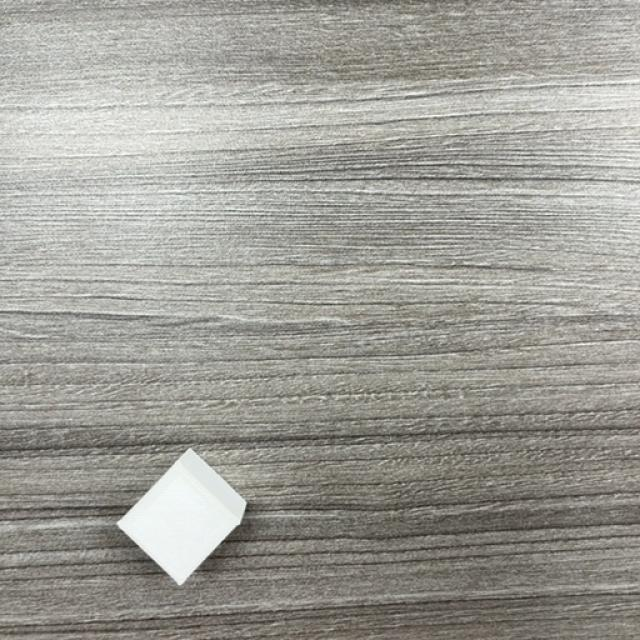Blanco: (115, 450, 248, 588)
